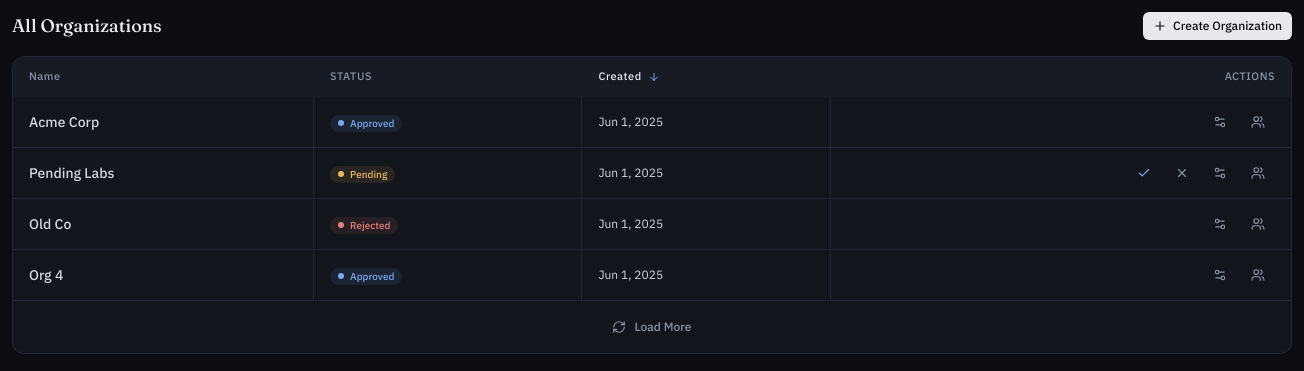
Test: SuperadminOrgsPage › loads page 2 on demand and hides the button once all orgs are fetched
Expected: the text "Org 4" is shown, [13, 249, 314, 300]
Click the button "Load More": [652, 326] box [602, 312, 702, 340]
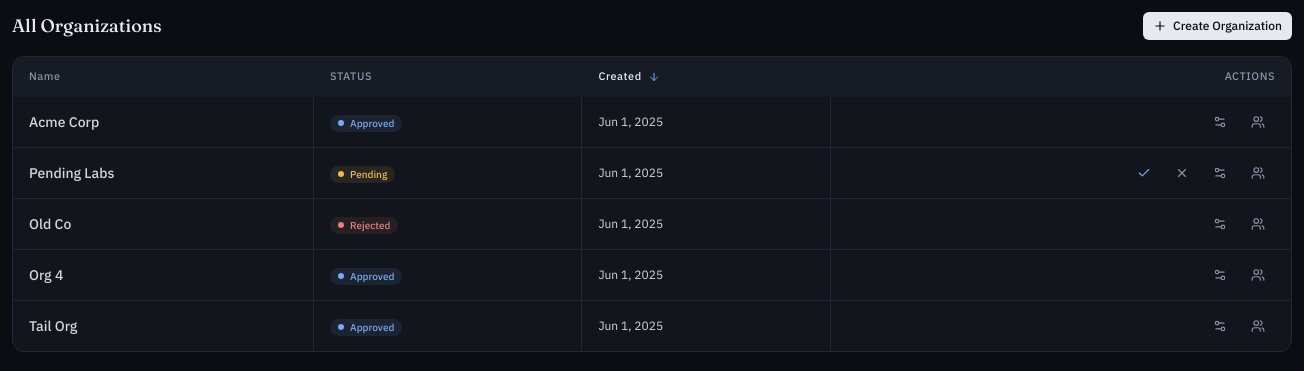
Now the text "Tail Org" is shown, box [13, 300, 314, 350]
Now the button "Load More" is gone
